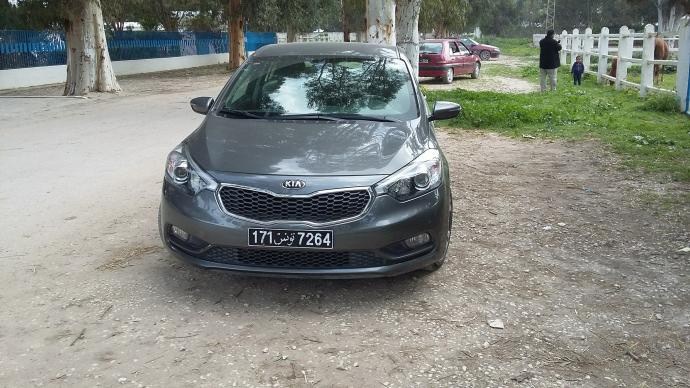LP: (247, 227, 335, 251)
